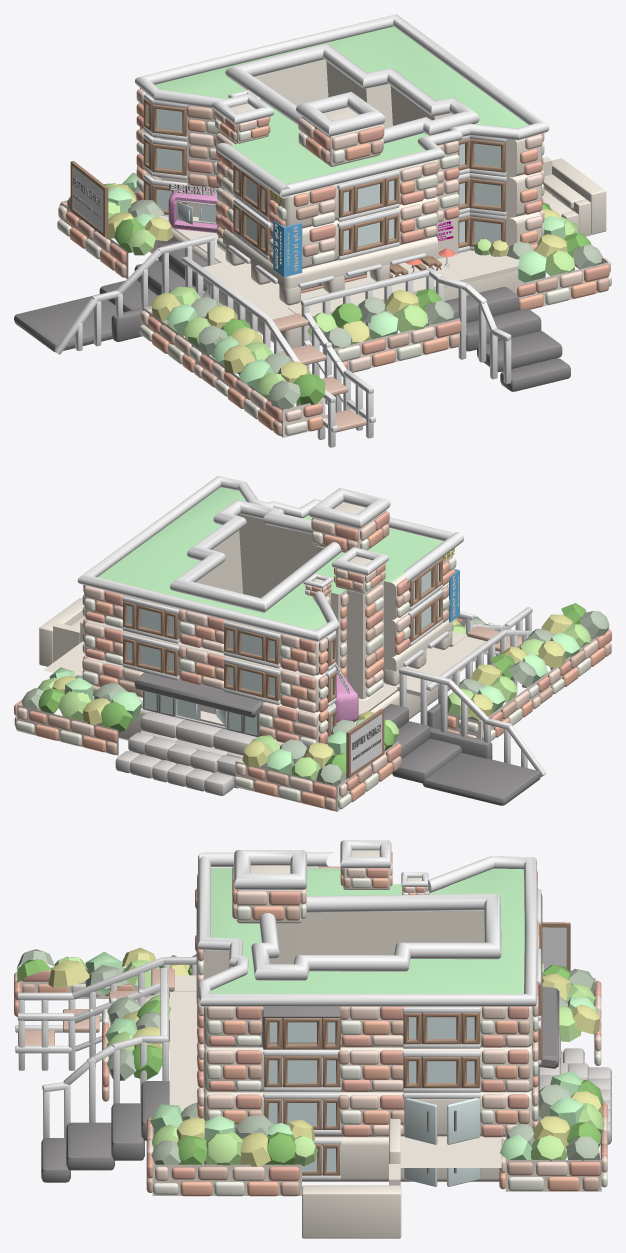
Rendered from library.gltf.
3 renders of one model, top to bottom at view 1: azimuth 30°, elevation 25°; view 2: azimuth 150°, elevation 25°; view 3: azimuth 270°, elevation 25°, orthographic. The views are drawn at different scales.
Parts seen in each view (by area): view 1: 화문-줄눈 (×2), 화문-벽 배경색 (×2), 화문-연한 민트색 (×2), 화문-Mat.1, 화문-Mat, 화문-따뜻한 빨강, 화문-소프트복숭아, 화문-라이트 테라코타, 화문-주황, 화문-유리(라이트 블루), 화문-크리미 베이지, 화문-올리브 (+6 smaller); view 2: 화문-줄눈 (×2), 화문-벽 배경색 (×3), 화문-연한 민트색 (×2), 화문-Mat.1 (×2), 화문-계단회색, 화문-따뜻한 빨강, 화문-소프트복숭아, 화문-Mat, 화문-주황, 화문-크리미 베이지, 화문-라이트 테라코타, 화문-유리(라이트 블루) (+6 smaller); view 3: 화문-줄눈 (×2), 화문-벽 배경색 (×2), 화문-연한 민트색 (×2), 화문-유리(라이트 블루) (×2), 화문-따뜻한 빨강, 화문-Mat.1 (×2), 화문-소프트복숭아, 화문-Mat, 화문-연한초록 (×2), 화문-주황, 화문-라이트 테라코타, 화문-올리브 (+4 smaller).
Part boxes in pixels (x1,y1,x2,y2): 화문-줄눈 (×2): (54,14,549,447); 화문-벽 배경색 (×2): (61,59,607,437); 화문-연한 민트색 (×2): (108,26,565,391); 화문-Mat.1: (14,177,570,391); 화문-Mat: (70,98,505,256); 화문-따뜻한 빨강: (59,88,609,422); 화문-소프트복숭아: (58,89,610,421); 화문-라이트 테라코타: (60,102,608,435); 화문-주황: (70,103,596,431); 화문-유리(라이트 블루): (148,105,500,287); 화문-크리미 베이지: (57,119,611,435); 화문-올리브: (106,184,567,383); 화문-줄눈 (×2): (77,476,553,776); 화문-벽 배경색 (×3): (16,489,609,811); 화문-연한 민트색 (×2): (49,487,580,774); 화문-Mat.1 (×2): (134,666,541,805); 화문-계단회색: (115,711,257,795); 화문-따뜻한 빨강: (14,511,611,798); 화문-소프트복숭아: (17,510,598,796); 화문-Mat: (123,558,442,778); 화문-주황: (35,528,605,807); 화문-크리미 베이지: (15,531,609,809); 화문-라이트 테라코타: (14,524,611,810); 화문-유리(라이트 블루): (127,564,438,734); 화문-줄눈 (×2): (15,840,566,1179); 화문-벽 배경색 (×2): (21,850,601,1238); 화문-연한 민트색 (×2): (85,868,597,1159); 화문-유리(라이트 블루) (×2): (269,1017,480,1186); 화문-따뜻한 빨강: (14,851,607,1181); 화문-Mat.1 (×2): (41,986,559,1182); 화문-소프트복숭아: (14,861,607,1181); 화문-Mat: (196,894,570,1175); 화문-연한초록 (×2): (17,949,600,1164); 화문-주황: (14,874,594,1196); 화문-라이트 테라코타: (18,878,607,1196); 화문-올리브: (48,947,604,1166).
Bounding box in the file's own units: 411 × 169 × 363.
